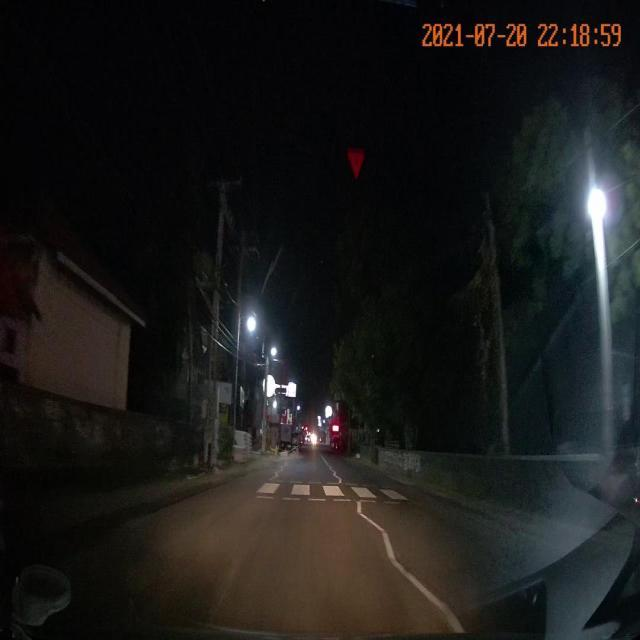Crosswalk: (251, 475, 411, 503)
